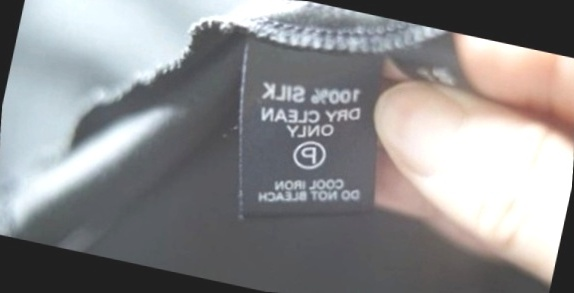dry_clean_any_solvent_except_trichloroethylene: (286, 133, 331, 176)
